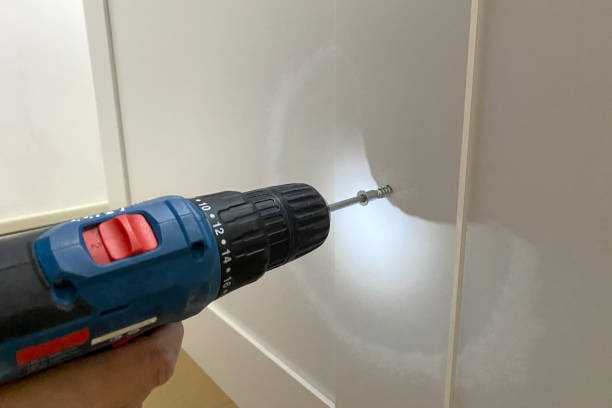driller: (1, 180, 364, 385)
